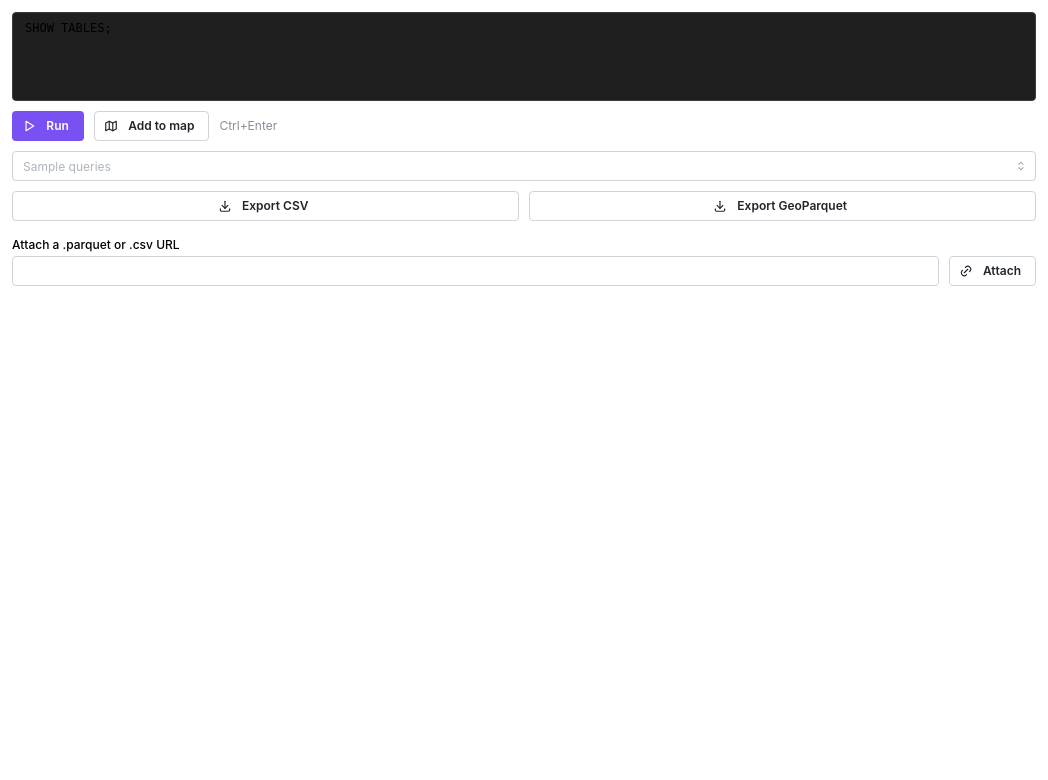
Test case: SqlWorkspaceTab › caps the table and says how many rows there are
Replace the text in the text box with test id "sql-editor" with "SELECT * FROM big". click: (524, 56)
box: [12,12,1036,101]
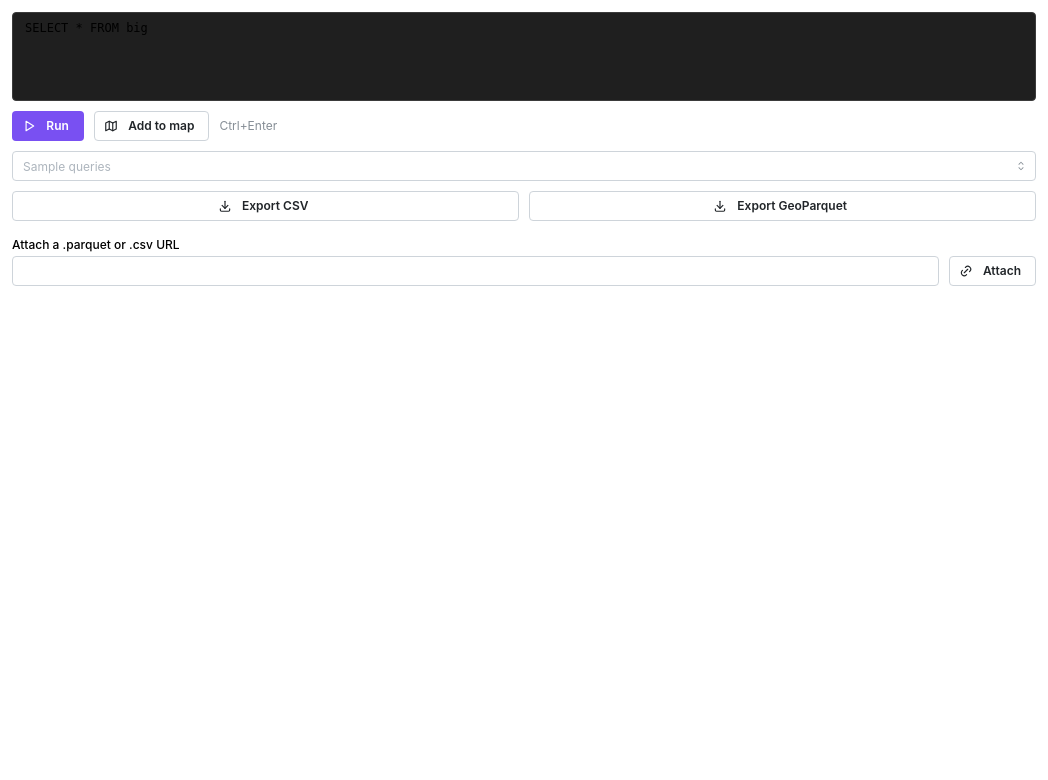
Click the button with test id "sql-run". click: (48, 126)
box: [12,111,84,141]
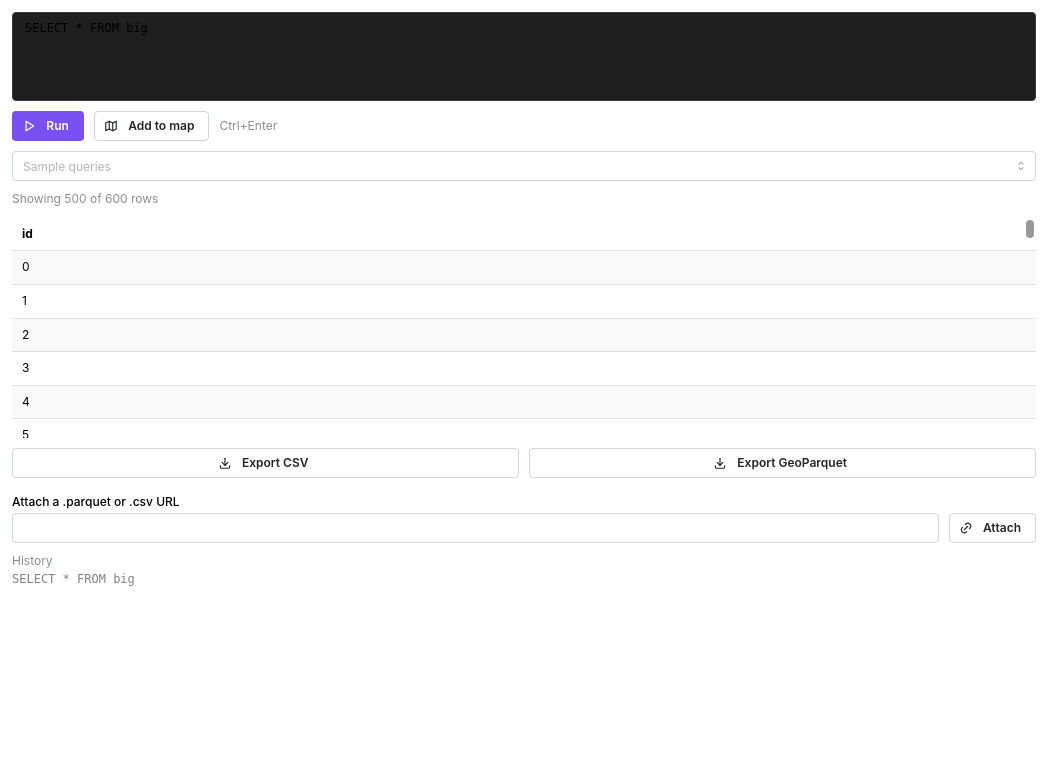
Now the text with test id "sql-cap" reads "Showing 500 of 600 rows", box [12,191,158,206]
